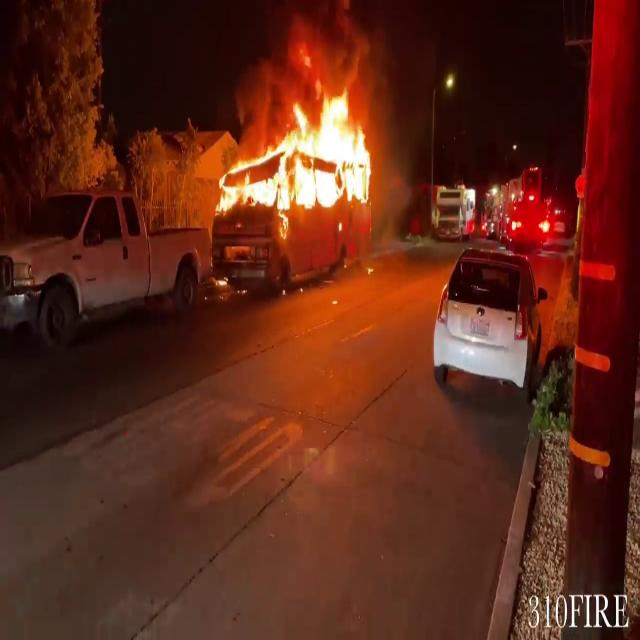Fire: (206, 79, 382, 229)
